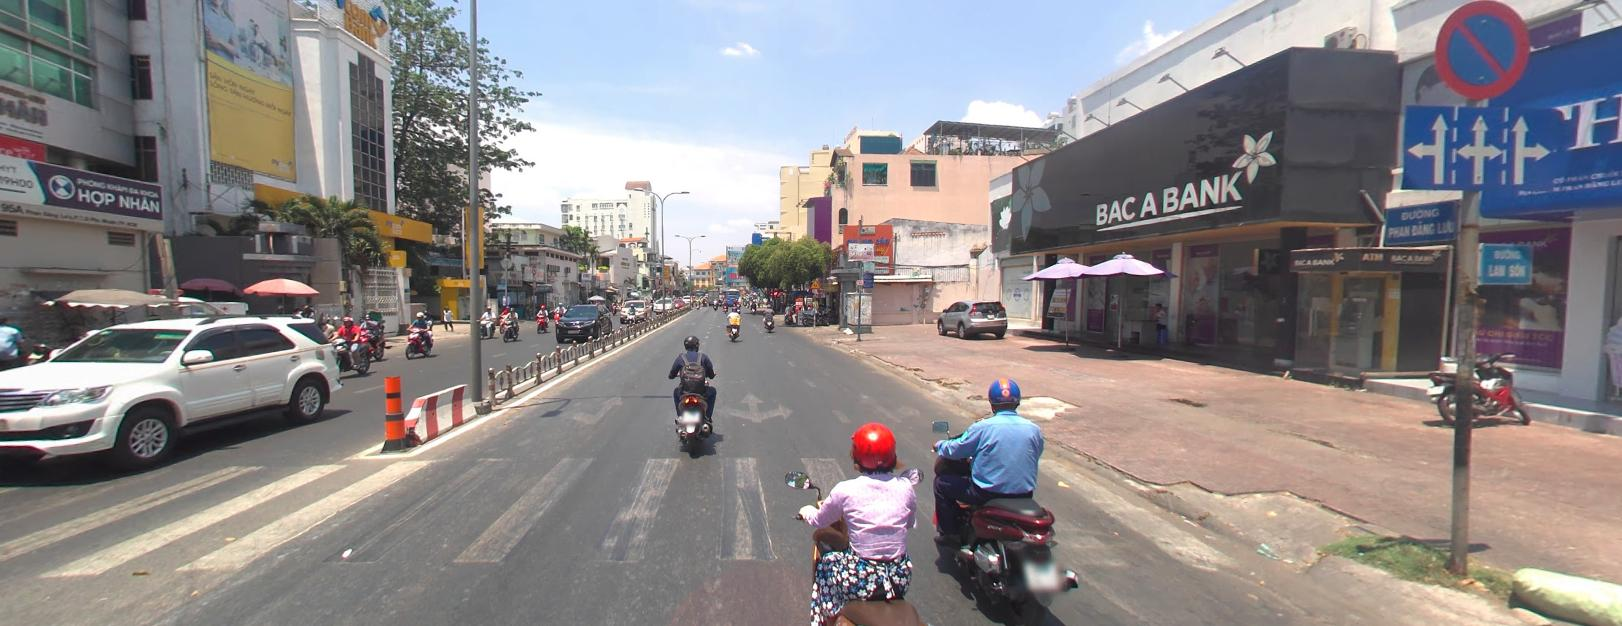Cam dung va do: (1426, 0, 1535, 105)
Nguy hiem: (809, 278, 820, 288)
